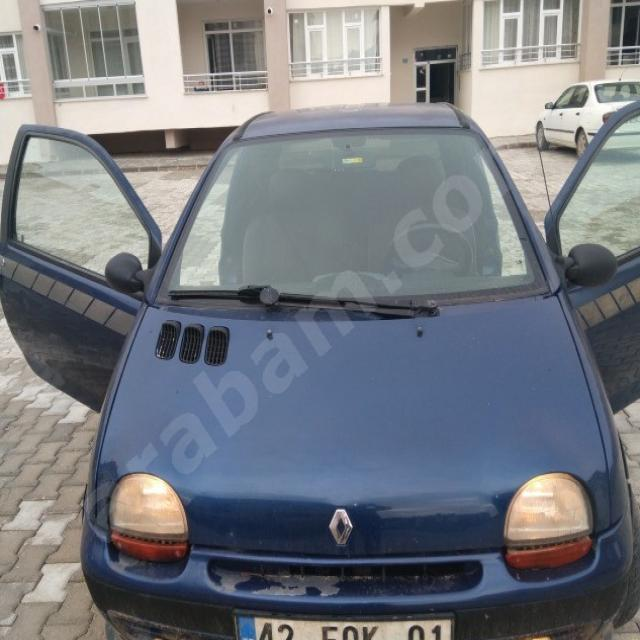license_plate: (238, 614, 453, 640)
